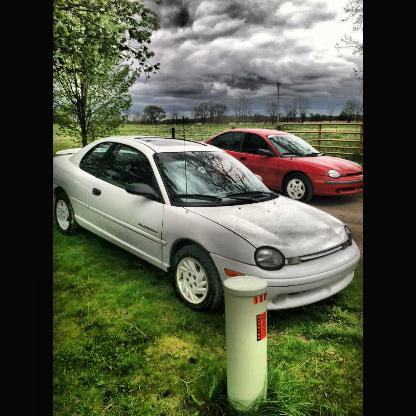Plymouth Neon Coupe 1999: (54, 134, 361, 314)
